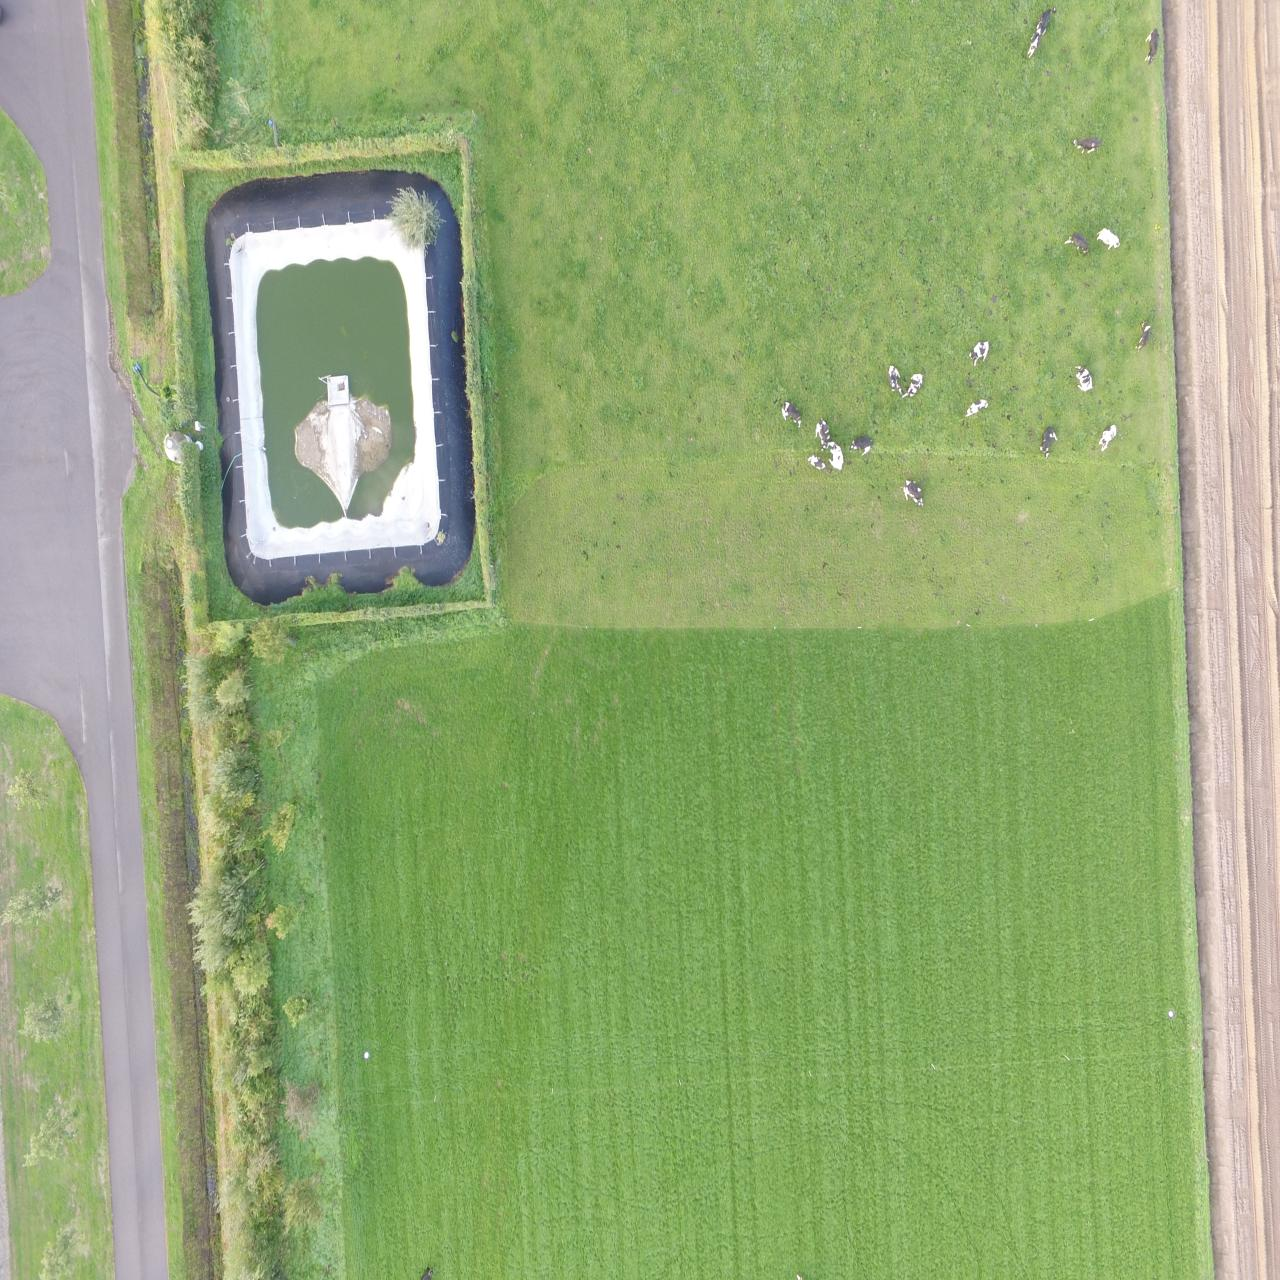cow: (1036, 424, 1060, 459), (1070, 360, 1095, 393), (778, 397, 804, 428), (1097, 421, 1121, 454), (1069, 135, 1103, 156), (1143, 26, 1160, 66), (903, 478, 925, 509), (1062, 232, 1089, 257), (962, 397, 992, 420), (968, 339, 990, 367), (1095, 226, 1121, 250), (1132, 319, 1151, 350), (904, 372, 925, 400), (828, 438, 844, 474), (1036, 5, 1057, 32), (850, 434, 874, 456), (886, 362, 901, 396), (813, 415, 829, 449), (1023, 32, 1039, 60), (805, 451, 825, 471)
